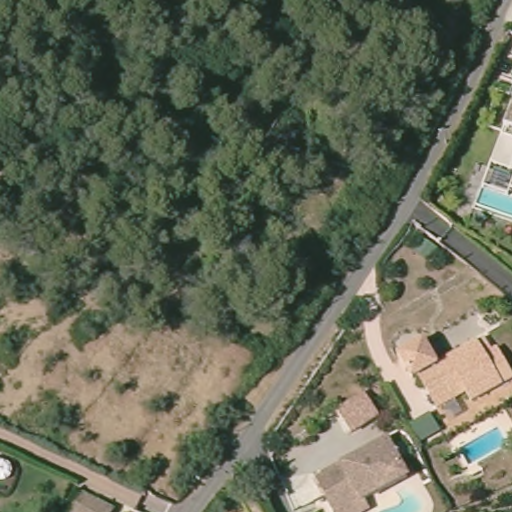pool: (454, 427, 509, 466), (473, 177, 512, 225), (383, 481, 429, 511)
